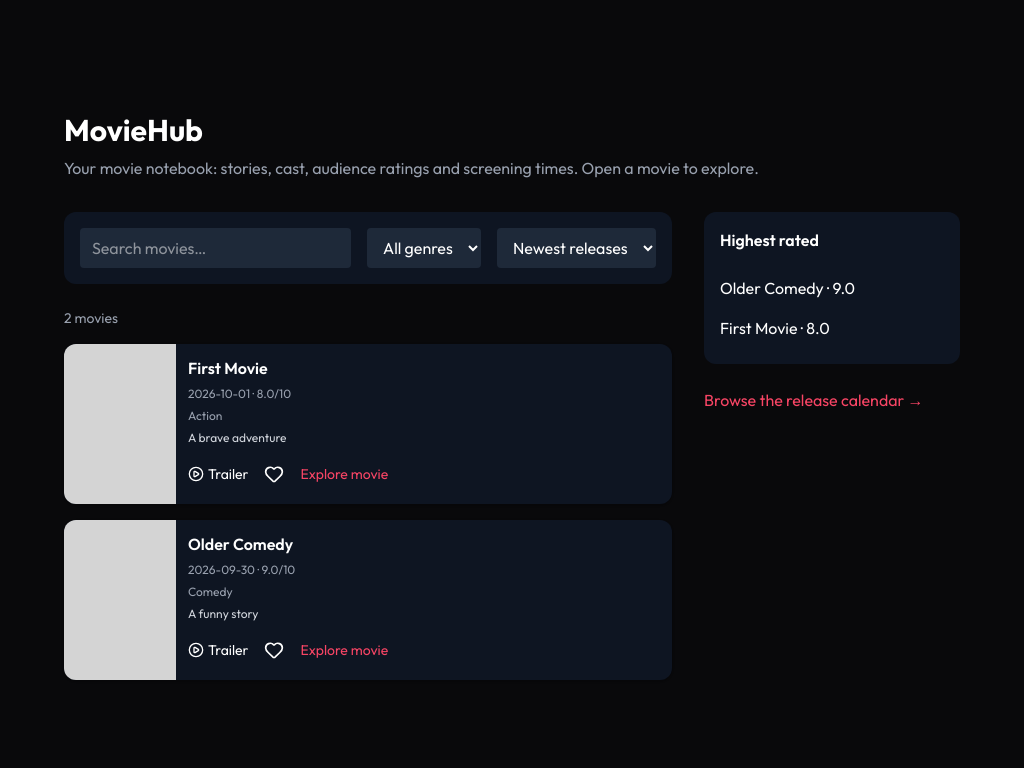
Test case: MovieHub and Releases › searches titles and overviews and filters by backend genres
Type " BRAVE " into the field labelled "Search movies" at coordinates (216, 248), box [80, 228, 351, 268]
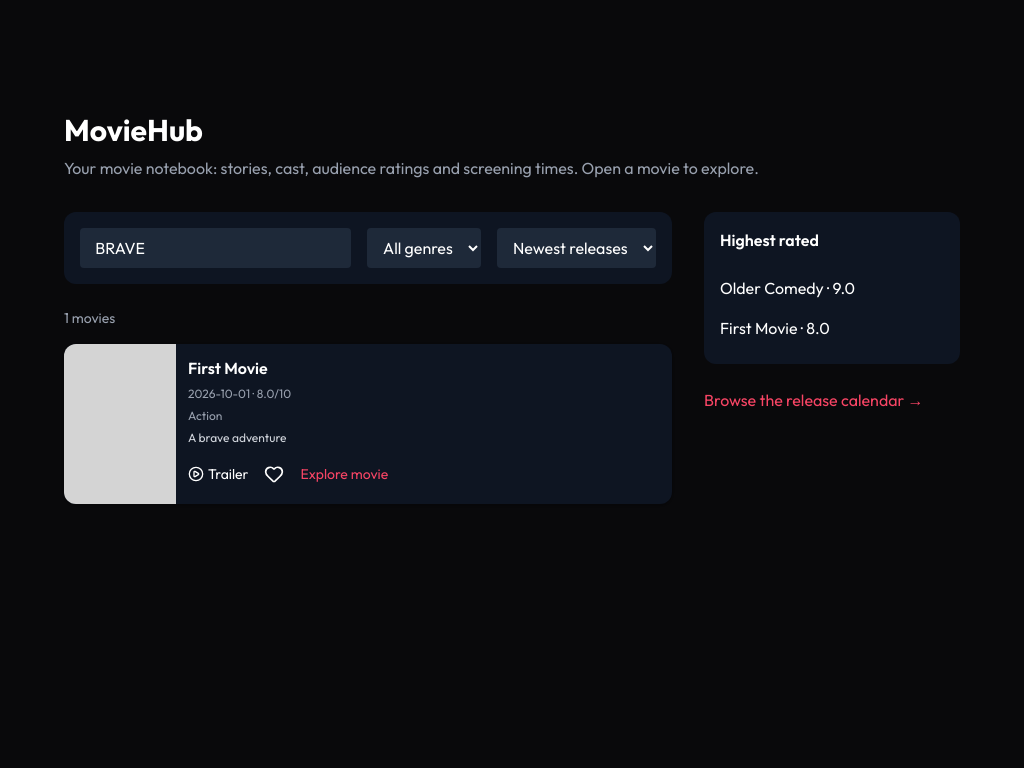
Select "Comedy" in the dropdown named "Genre" at coordinates (424, 248), box [367, 228, 481, 268]
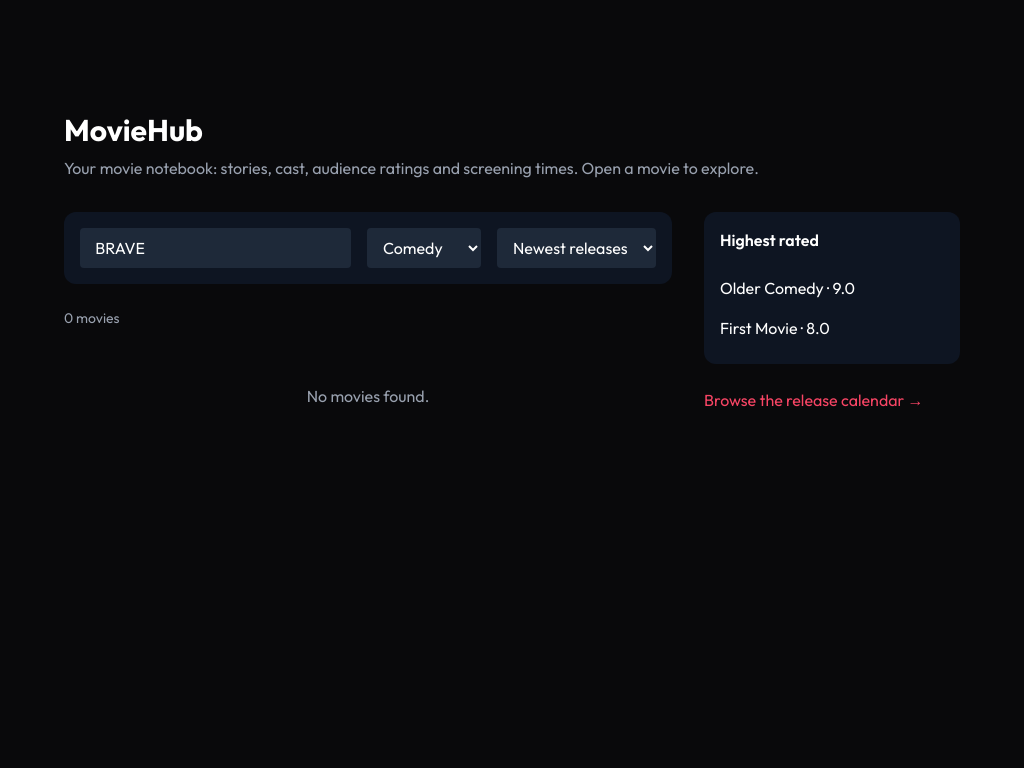
Expected: the text "No movies found." is shown, [307, 386, 429, 406]
